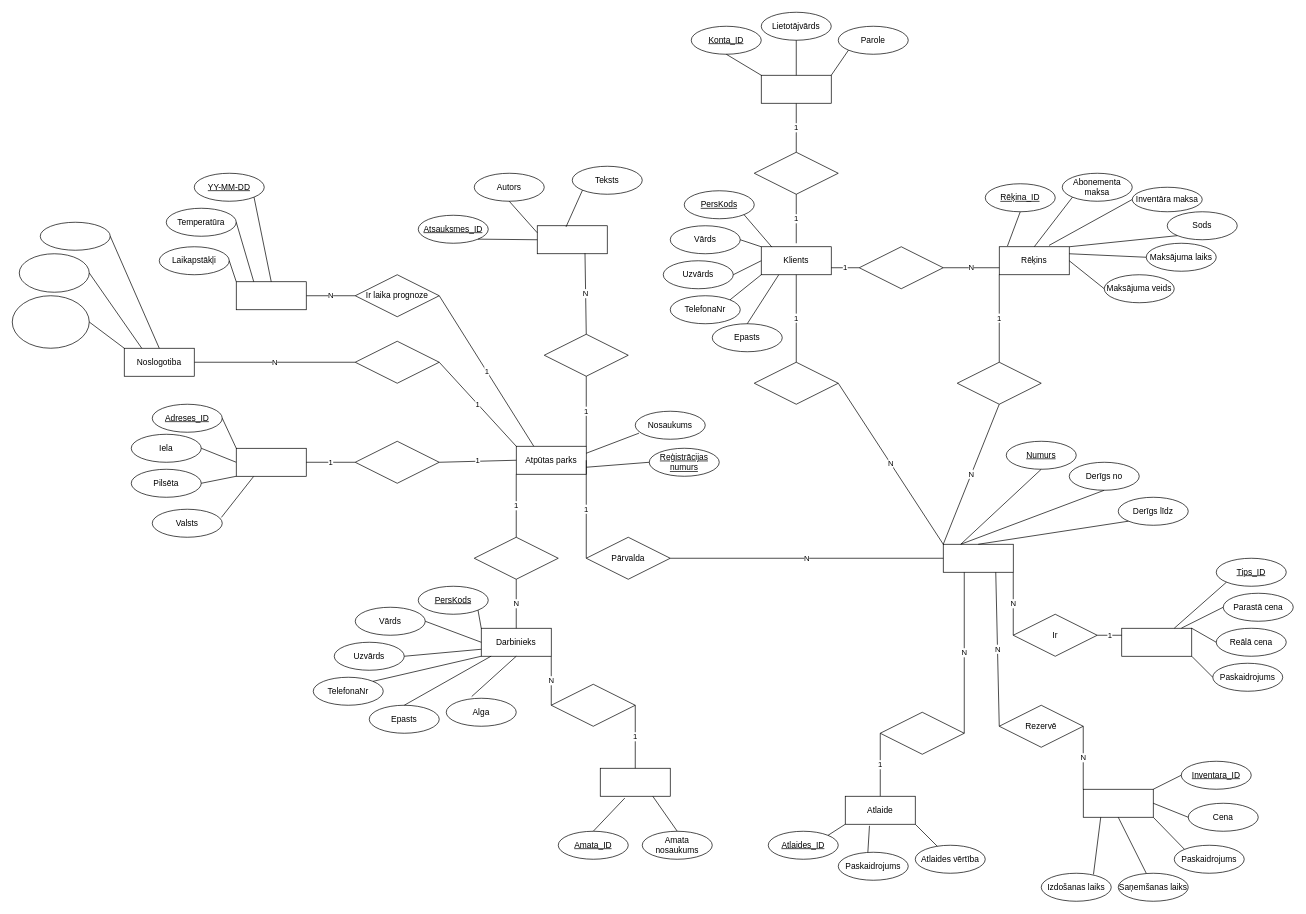
Some shapes in this 1306 by 914 pixel diagram are drawn without their labels. Each missing label, with the centre of its shape:
"Abonements" belongs at point (978, 558).
"Abonementu cenrādis" belongs at point (1156, 642).
"Adrese" belongs at point (271, 462).
"Amats" belongs at point (635, 782).
"Atrodas" belongs at point (397, 462).
"Atsauksmes" belongs at point (572, 239).
"Cilvēku daudzums parkā" belongs at point (54, 272).
"Iegādājas" belongs at point (796, 383).
"Inventārs" belongs at point (1118, 803).
"Ir atkarīgs no" belongs at point (999, 383).
"Ir noslogots" belongs at point (397, 362).
"Konts" belongs at point (796, 89).
"Laika prognoze" belongs at point (271, 295).
"Maksā" belongs at point (901, 267).
"Mēneša vidējais daudzums konkrētajā laikā" belongs at point (50, 321).
"Nodarbina" belongs at point (516, 558).
"Pieder konts" belongs at point (796, 173).
"Pretendē" belongs at point (922, 733).
"Saņem" belongs at point (586, 355).
"Strādā" belongs at point (593, 705).
"YY-MM-DD-HH" belongs at point (75, 236).
